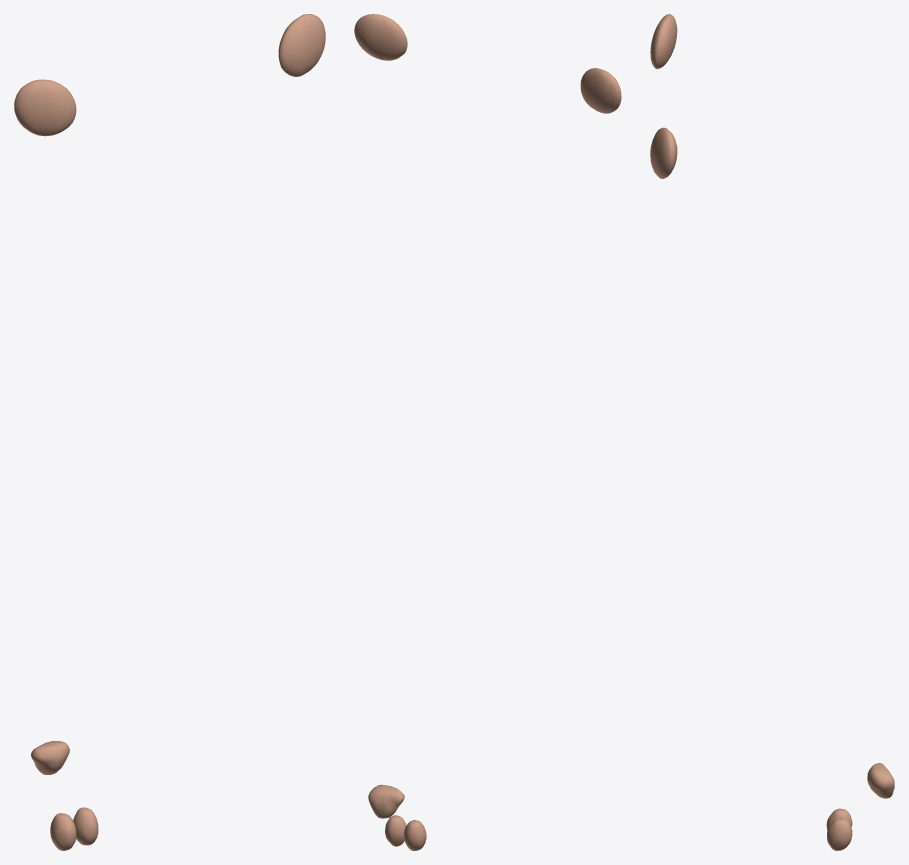
Rendered from pediatric_child_10y_male.reproductive.LOD0.glb.
3 renders of one model, left to right at view 1: azimuth 30°, elevation 25°; view 2: azimuth 150°, elevation 25°; view 3: azimuth 270°, elevation 25°, orthographic. The views are drawn at different scales.
Parts seen in each view (by area): view 1: PEDIATRIC.CHILD_10Y.MALE.REPRODUCTIVE.BREAST_ADIPOSE_TISSUE. (×2), PEDIATRIC.CHILD_10Y.MALE.REPRODUCTIVE.PROSTATE, PEDIATRIC.CHILD_10Y.MALE.REPRODUCTIVE.TESTIS.R, PEDIATRIC.CHILD_10Y.MALE.REPRODUCTIVE.TESTIS.L; view 2: PEDIATRIC.CHILD_10Y.MALE.REPRODUCTIVE.BREAST_ADIPOSE_TISSUE. (×2), PEDIATRIC.CHILD_10Y.MALE.REPRODUCTIVE.PROSTATE, PEDIATRIC.CHILD_10Y.MALE.REPRODUCTIVE.TESTIS.R, PEDIATRIC.CHILD_10Y.MALE.REPRODUCTIVE.TESTIS.L; view 3: PEDIATRIC.CHILD_10Y.MALE.REPRODUCTIVE.BREAST_ADIPOSE_TISSUE. (×2), PEDIATRIC.CHILD_10Y.MALE.REPRODUCTIVE.PROSTATE, PEDIATRIC.CHILD_10Y.MALE.REPRODUCTIVE.TESTIS.L.
Part boxes in pixels (box(x1,y1,x2,y2)): PEDIATRIC.CHILD_10Y.MALE.REPRODUCTIVE.BREAST_ADIPOSE_TISSUE. (×2): box(14, 14, 325, 136); PEDIATRIC.CHILD_10Y.MALE.REPRODUCTIVE.PROSTATE: box(31, 741, 69, 774); PEDIATRIC.CHILD_10Y.MALE.REPRODUCTIVE.TESTIS.R: box(50, 813, 76, 850); PEDIATRIC.CHILD_10Y.MALE.REPRODUCTIVE.TESTIS.L: box(73, 807, 98, 845); PEDIATRIC.CHILD_10Y.MALE.REPRODUCTIVE.BREAST_ADIPOSE_TISSUE. (×2): box(354, 14, 621, 113); PEDIATRIC.CHILD_10Y.MALE.REPRODUCTIVE.PROSTATE: box(368, 784, 404, 818); PEDIATRIC.CHILD_10Y.MALE.REPRODUCTIVE.TESTIS.R: box(404, 820, 426, 850); PEDIATRIC.CHILD_10Y.MALE.REPRODUCTIVE.TESTIS.L: box(385, 815, 406, 846); PEDIATRIC.CHILD_10Y.MALE.REPRODUCTIVE.BREAST_ADIPOSE_TISSUE. (×2): box(650, 14, 677, 178); PEDIATRIC.CHILD_10Y.MALE.REPRODUCTIVE.PROSTATE: box(867, 763, 894, 798); PEDIATRIC.CHILD_10Y.MALE.REPRODUCTIVE.TESTIS.L: box(827, 818, 852, 850).
Bounding box in the file's own units: 0.1494 × 0.3998 × 0.1149.
